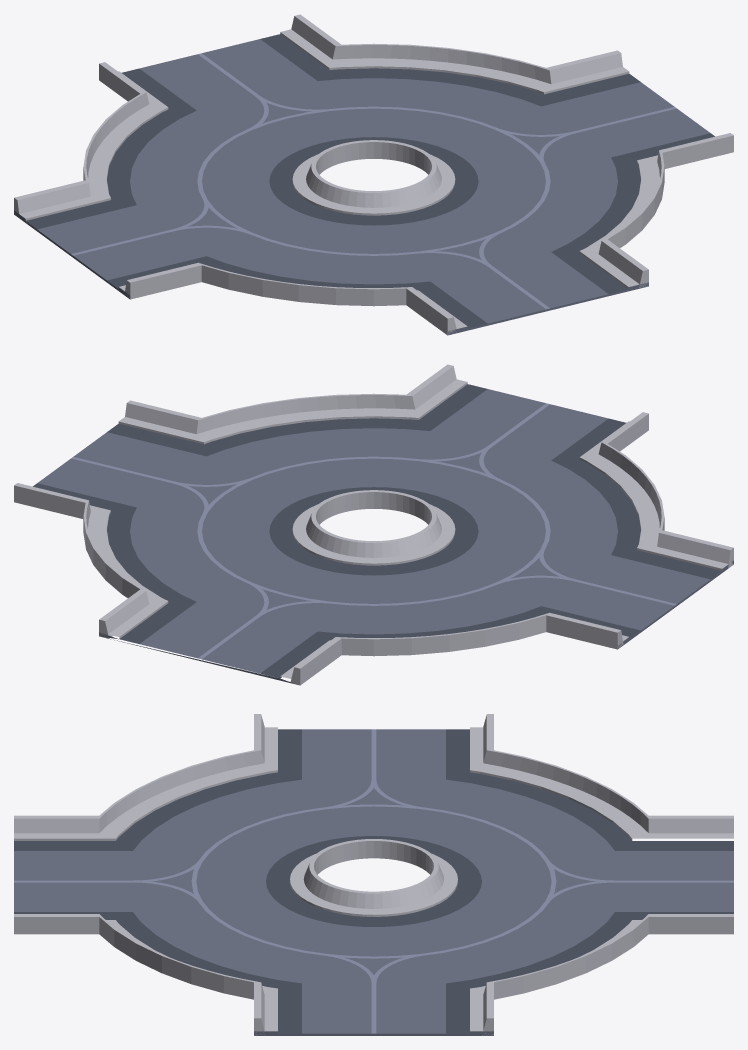
Rendered from road_roundabout.glb.
3 renders of one model, top to bottom at view 1: azimuth 30°, elevation 25°; view 2: azimuth 150°, elevation 25°; view 3: azimuth 270°, elevation 25°, orthographic. The views are drawn at different scales.
Visible parts, largest first — view 1: road_roundabout_b3a7e4, road_roundabout_22585f, road_roundabout_514956, road_roundabout_0fae05, road_roundabout_4c9bde; view 2: road_roundabout_b3a7e4, road_roundabout_22585f, road_roundabout_514956, road_roundabout_0fae05, road_roundabout_4c9bde; view 3: road_roundabout_b3a7e4, road_roundabout_22585f, road_roundabout_514956, road_roundabout_0fae05, road_roundabout_4c9bde.
Part boxes in pixels (left/top/right/bottom): road_roundabout_b3a7e4: left=14, top=39, right=710, bottom=335; road_roundabout_22585f: left=14, top=14, right=733, bottom=335; road_roundabout_514956: left=26, top=34, right=714, bottom=328; road_roundabout_0fae05: left=19, top=29, right=733, bottom=335; road_roundabout_4c9bde: left=71, top=53, right=676, bottom=309; road_roundabout_b3a7e4: left=37, top=389, right=733, bottom=684; road_roundabout_22585f: left=14, top=364, right=733, bottom=685; road_roundabout_514956: left=33, top=384, right=721, bottom=678; road_roundabout_0fae05: left=14, top=379, right=728, bottom=678; road_roundabout_4c9bde: left=71, top=403, right=676, bottom=659; road_roundabout_b3a7e4: left=14, top=729, right=733, bottom=1035; road_roundabout_22585f: left=14, top=714, right=733, bottom=1035; road_roundabout_514956: left=14, top=729, right=733, bottom=1033; road_roundabout_0fae05: left=14, top=727, right=733, bottom=1031; road_roundabout_4c9bde: left=14, top=729, right=733, bottom=1033.
Size of the model in its own units: 3 by 0.08 by 3.
